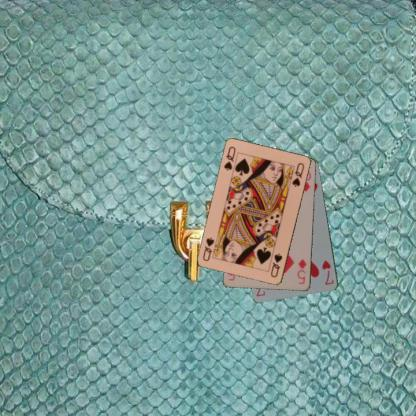5d: (295, 256, 308, 286)
7h: (320, 258, 335, 286)
Qs: (268, 251, 284, 279), (221, 144, 237, 172)
